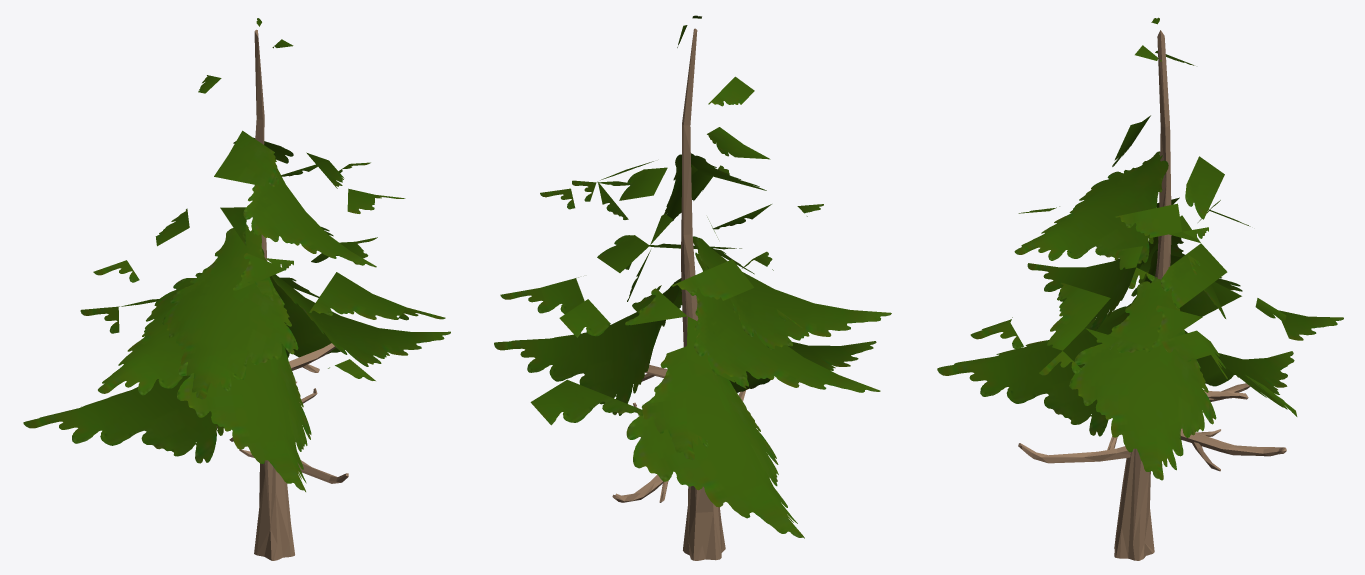
Rendered from pine-natural.far.quaternius.glb.
3 views of the same model, side by side, from view 1: azimuth 30°, elevation 25°; view 2: azimuth 150°, elevation 25°; view 3: azimuth 270°, elevation 25° (orthographic). The views are drawn at different scales.
Visible parts, largest first — view 1: Pine_2; view 2: Pine_2; view 3: Pine_2.
Part boxes in pixels (x1,y1,x2,y2): Pine_2: [23, 18, 450, 560]; Pine_2: [494, 15, 891, 560]; Pine_2: [937, 17, 1343, 560].
Size of the model in its own units: 8.85 by 11.87 by 8.49.
Materials: 2 (1 with a texture image).
